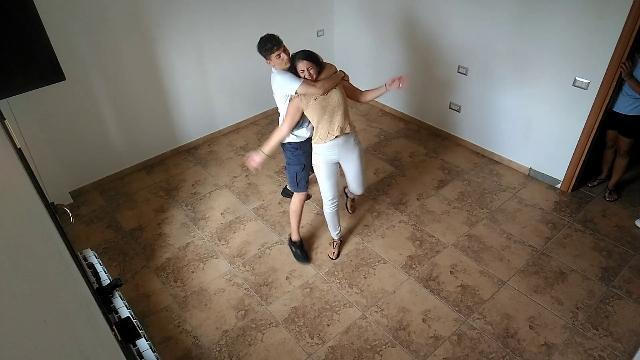violence: (244, 32, 410, 268)
